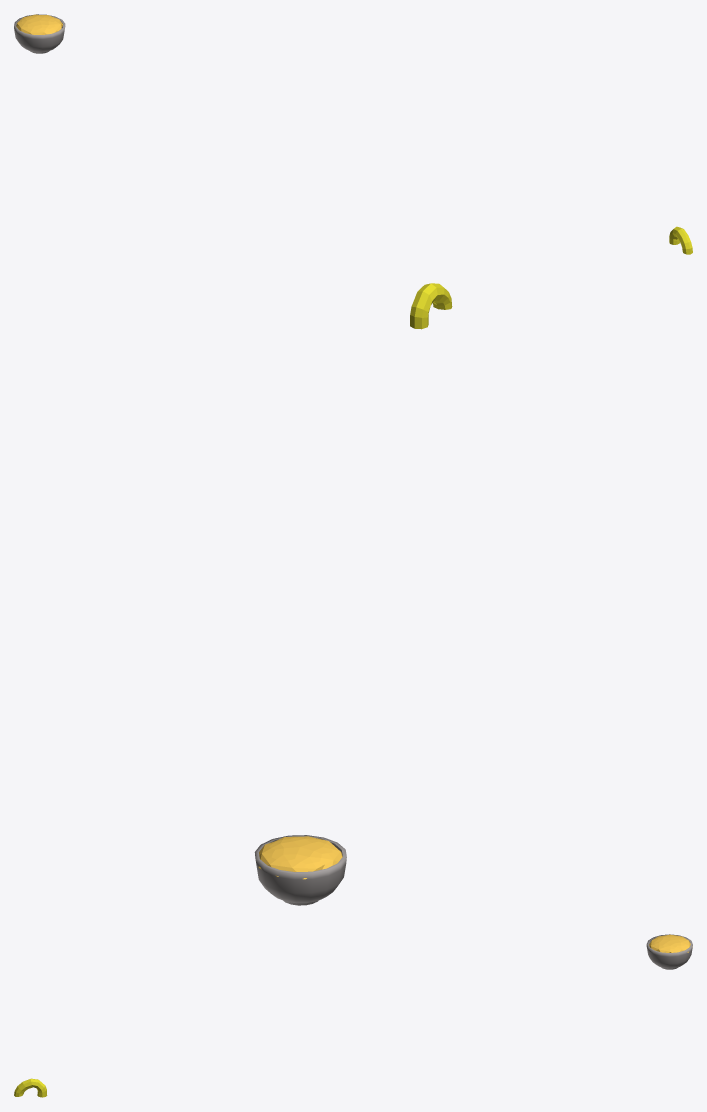
Rendered from Macandcheeseactual.fbx.
The picture shows the model from 3 angles, top to bottom: view 1: azimuth 30°, elevation 25°; view 2: azimuth 150°, elevation 25°; view 3: azimuth 270°, elevation 25°; orthographic projection. The views are drawn at different scales.
Visible parts, largest first — view 1: Plane, Icosphere, Circle.001; view 2: Plane, Icosphere, Circle.001; view 3: Plane, Icosphere, Circle.001.
Part boxes in pixels (box(x1,y1,x2,y2)): Plane: box(14, 14, 65, 53); Icosphere: box(16, 14, 62, 34); Circle.001: box(669, 226, 692, 254); Plane: box(254, 835, 346, 905); Icosphere: box(258, 836, 342, 879); Circle.001: box(410, 283, 452, 329); Plane: box(646, 934, 692, 969); Icosphere: box(649, 934, 690, 952); Circle.001: box(14, 1078, 47, 1097).
Bounding box in the file's own units: 2264 × 242 × 4776.
